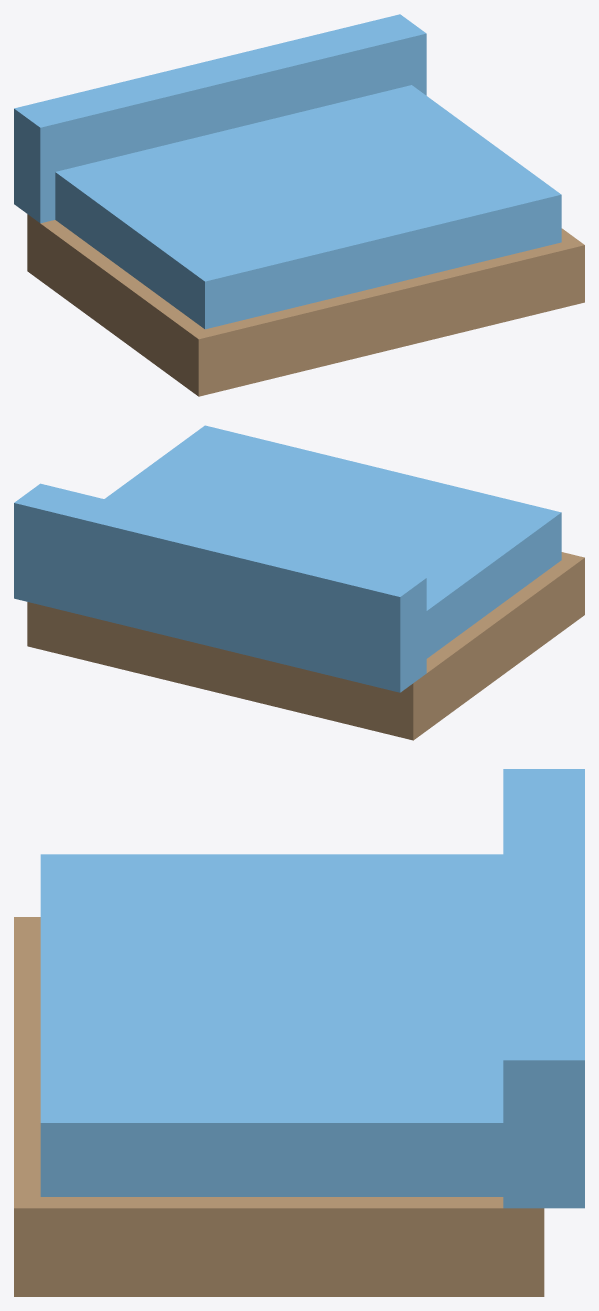
File: Prop_Pet_AMF_Bed_V2.glb
3 views of the same model, one above another, from view 1: azimuth 30°, elevation 25°; view 2: azimuth 150°, elevation 25°; view 3: azimuth 270°, elevation 25° (orthographic). The views are drawn at different scales.
Parts seen in each view (by area): view 1: Prop_Pet_AMF_Bed_V2; view 2: Prop_Pet_AMF_Bed_V2; view 3: Prop_Pet_AMF_Bed_V2.
Part boxes in pixels (x1,y1,x2,y2): Prop_Pet_AMF_Bed_V2: (14, 14, 584, 396); Prop_Pet_AMF_Bed_V2: (14, 425, 584, 740); Prop_Pet_AMF_Bed_V2: (14, 769, 584, 1296).
Size of the model in its own units: 0.845 by 0.32 by 0.7.
